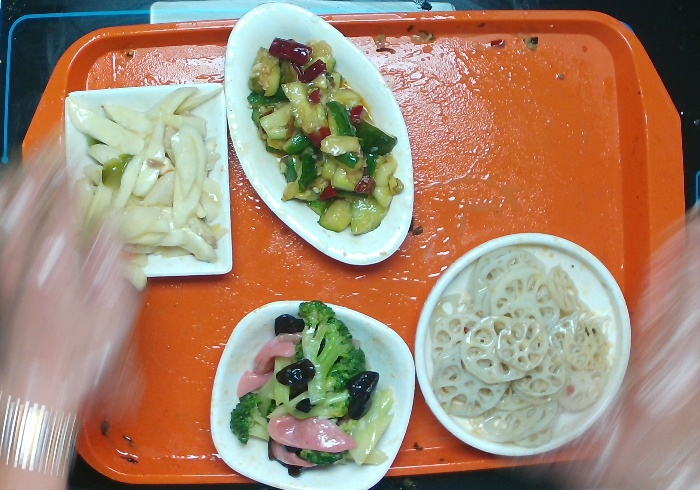HZYJPL-Si_Fang_Die: (50, 75, 250, 289)
HZYJPL-Si_Fang_Yuan_Die: (205, 291, 417, 490)
HZYJPL-Xiao_Yu_Die: (219, 1, 418, 270)
HZYJPL-Xiao_Yuan_Die: (397, 222, 641, 465)
